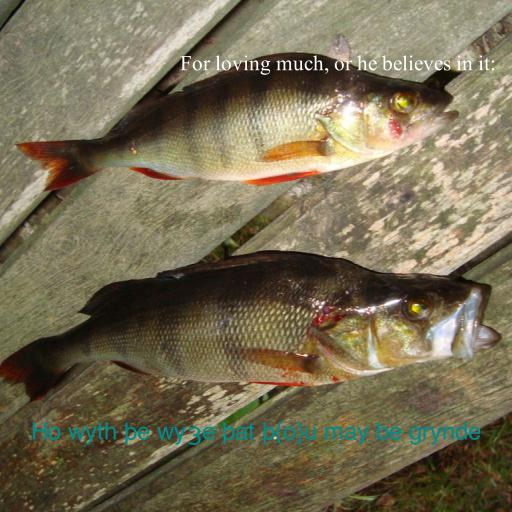Big Caslon: (31, 421, 481, 446)
Times New Roman: (180, 55, 496, 75)
